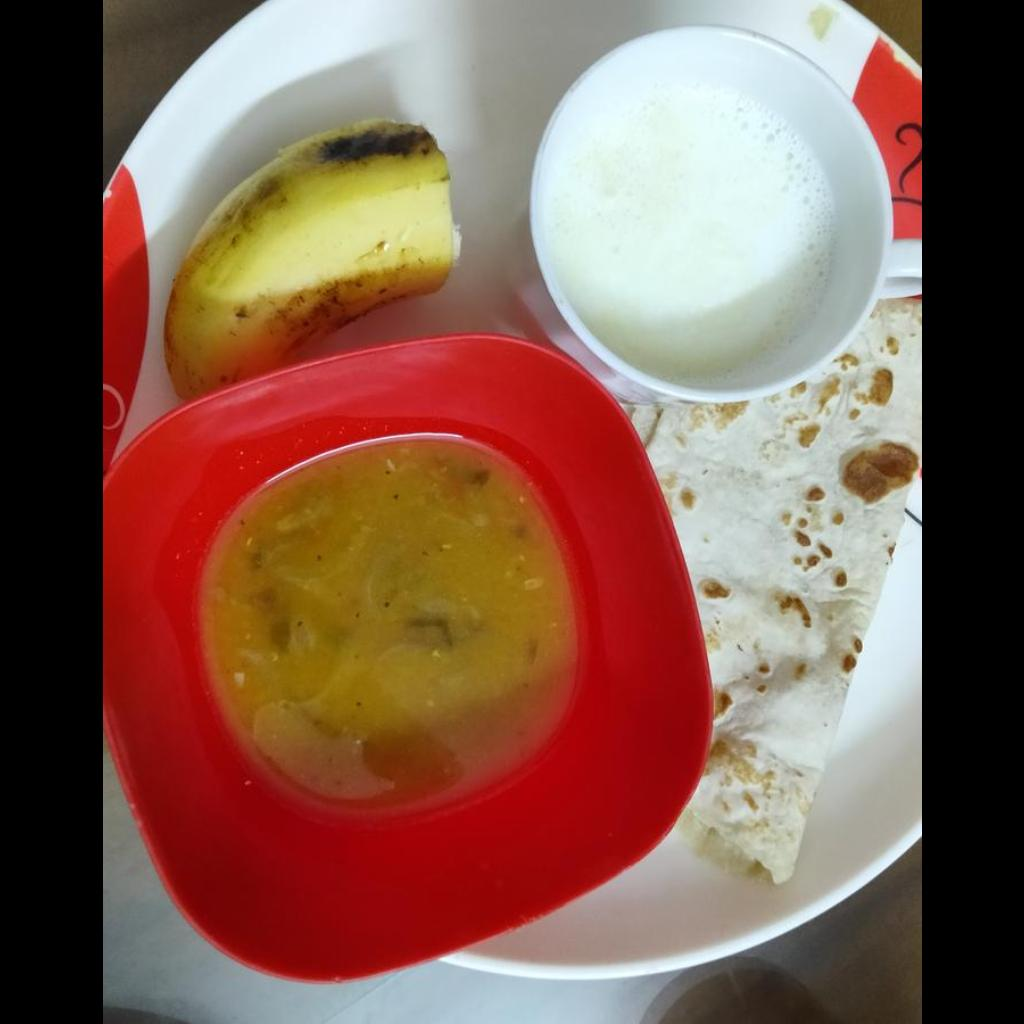banana: (159, 120, 460, 396)
daal: (209, 437, 571, 793)
milk: (554, 94, 845, 367)
ruti: (632, 299, 920, 888)
